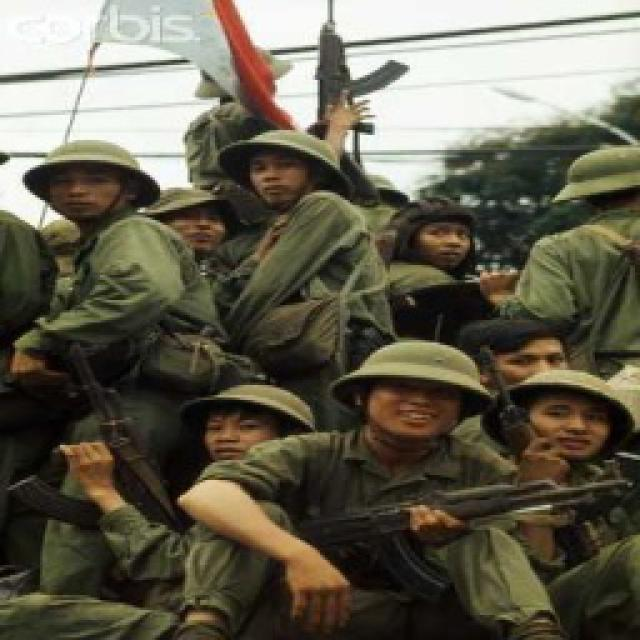long weapon: (286, 462, 628, 586), (24, 356, 182, 538), (299, 12, 410, 157)
